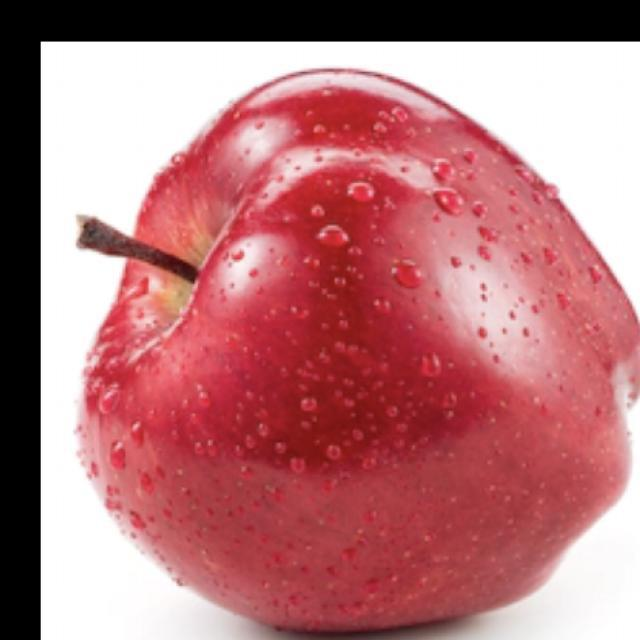Fresh Apple: (107, 72, 628, 595)
